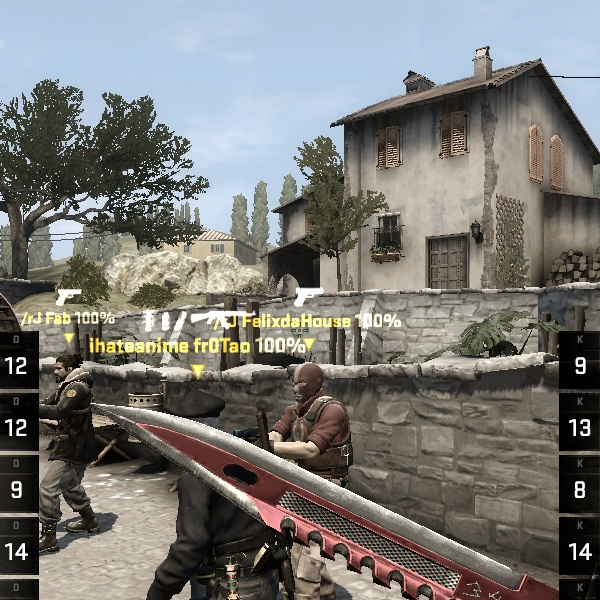t_head: (46, 345, 85, 391)
